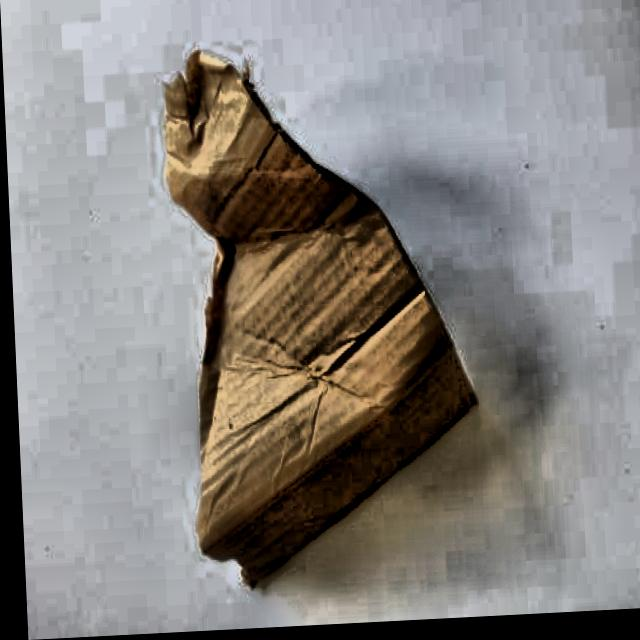Cardbox: (101, 26, 501, 615)
